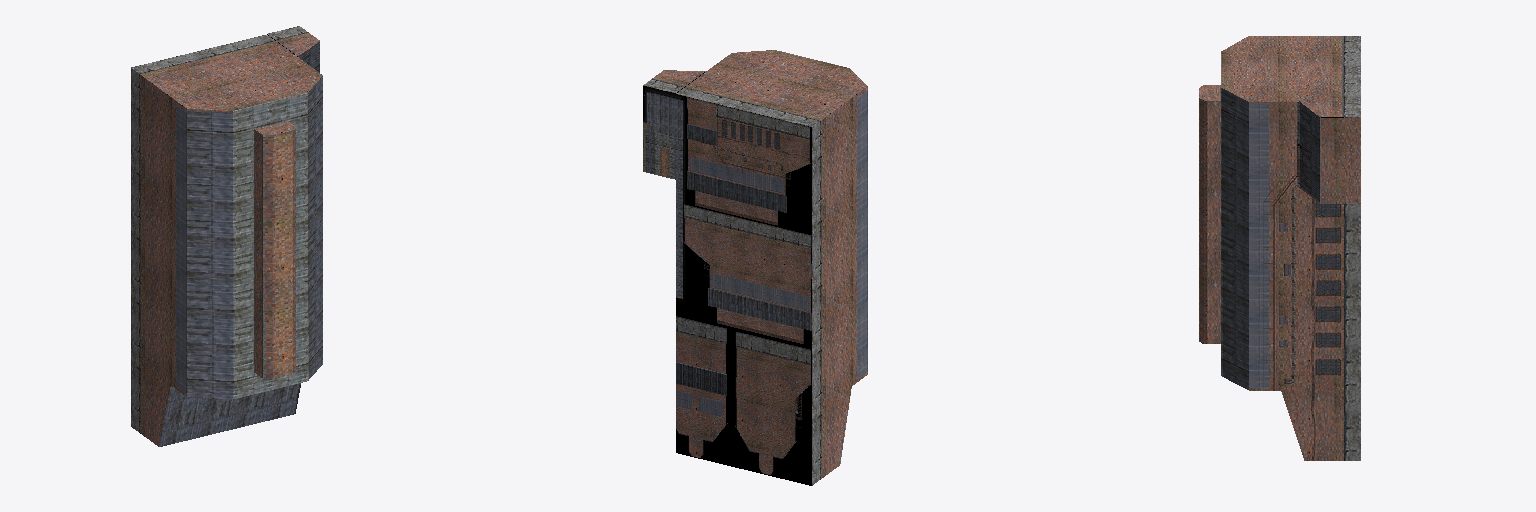
3 views of the same model, side by side, from view 1: azimuth 30°, elevation 25°; view 2: azimuth 150°, elevation 25°; view 3: azimuth 270°, elevation 25° (orthographic).
Visible parts, largest first — view 1: MDL_polym1; view 2: MDL_polym1; view 3: MDL_polym1.
Part boxes in pixels (bbox=[...]): MDL_polym1: bbox=[131, 26, 322, 446]; MDL_polym1: bbox=[643, 50, 867, 485]; MDL_polym1: bbox=[1199, 36, 1360, 460].
Size of the model in its own units: 24.29 by 49.39 by 20.29.
Materials: 1 (1 with a texture image).